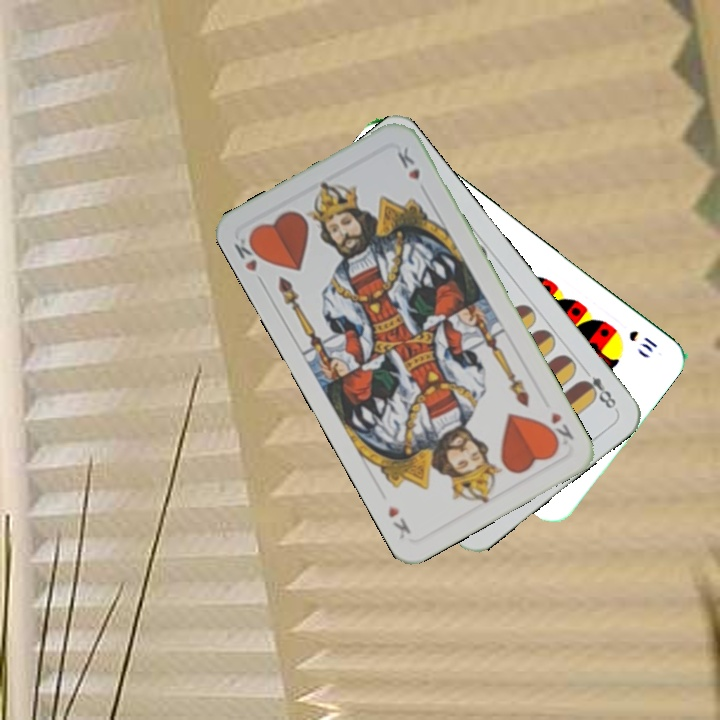E8: (576, 363, 619, 411)
HK: (229, 231, 268, 275), (541, 407, 577, 452)
S10: (624, 326, 660, 355)
